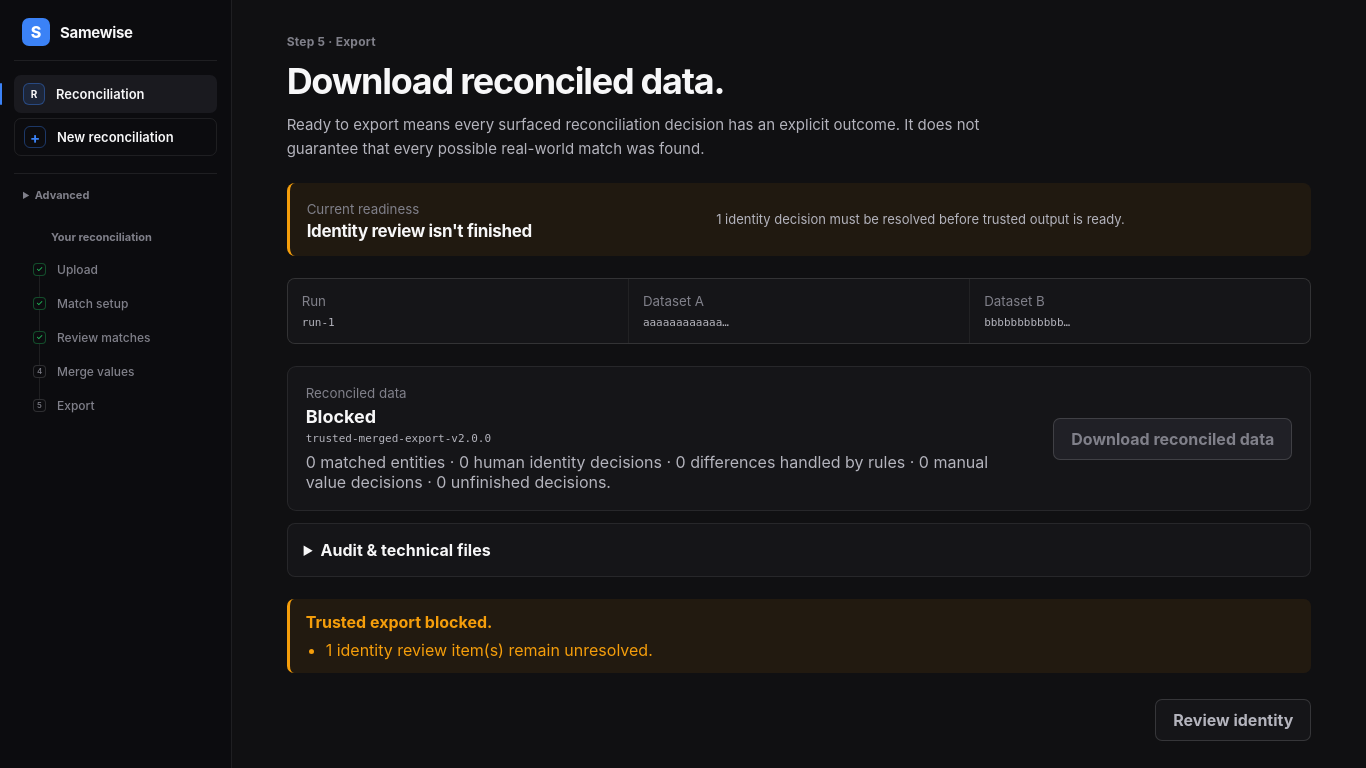
Test: Samewise vertical slice › offers New reconciliation from an active run without changing the current run
Click the button "+ New reconciliation". click: (116, 137)
box: x1=14 y1=118 x2=217 y2=156
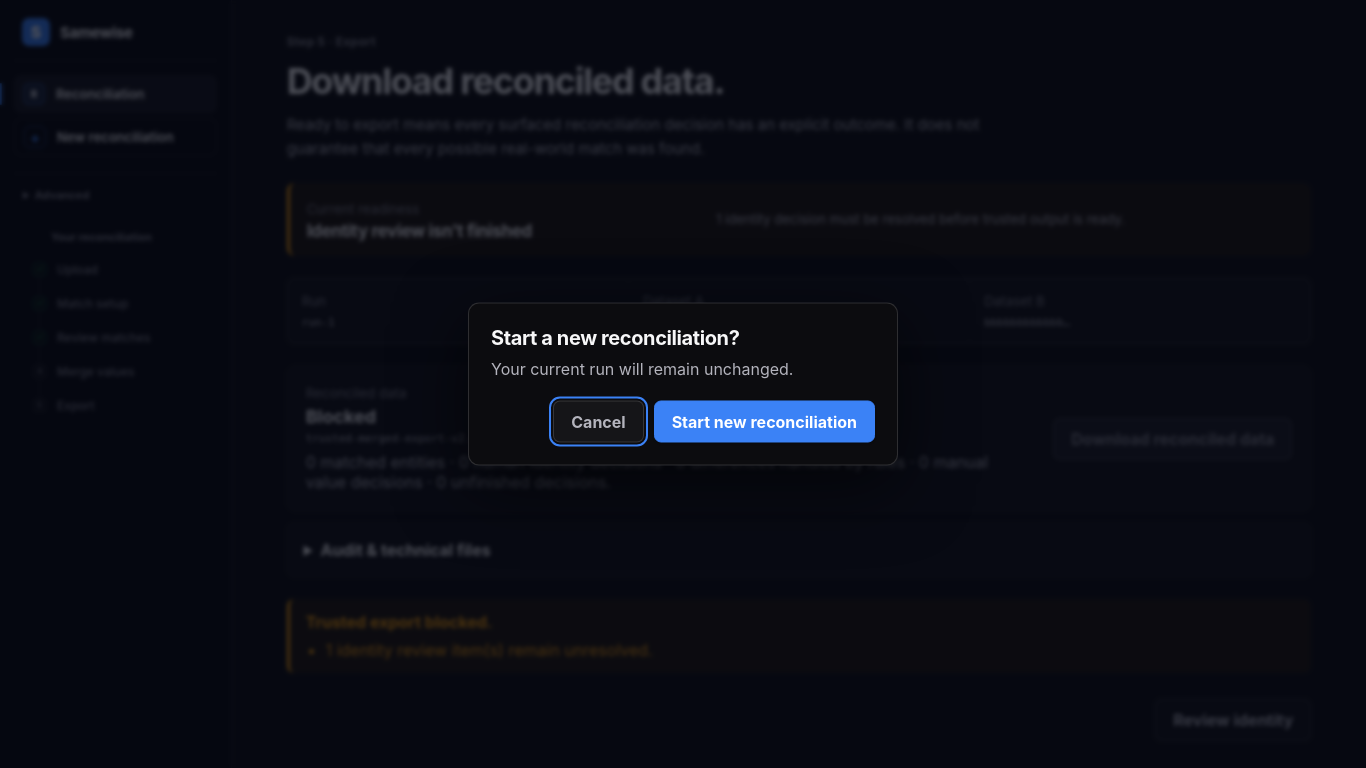
expect the dialog "Start a new reconciliation?" shows "Your current run will remain unchanged.": met, box x1=491 y1=358 x2=793 y2=378
